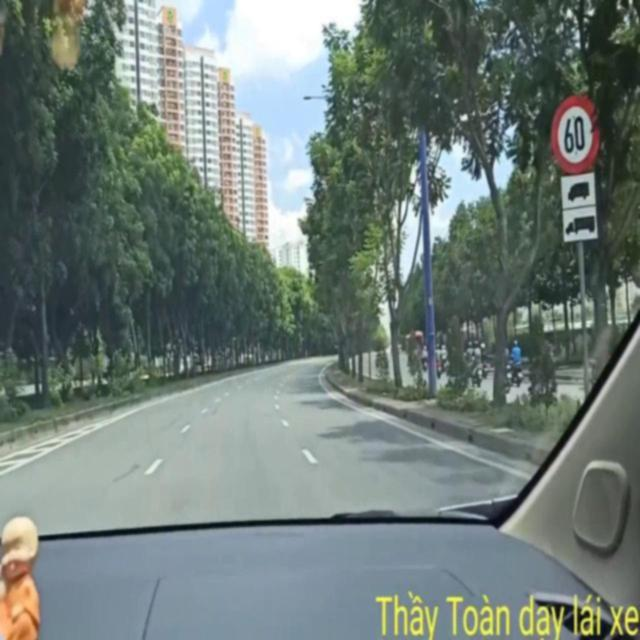Biển phụ: (562, 168, 599, 243)
Giới hạn tốc độ: 60Km/h: (550, 88, 600, 169)
